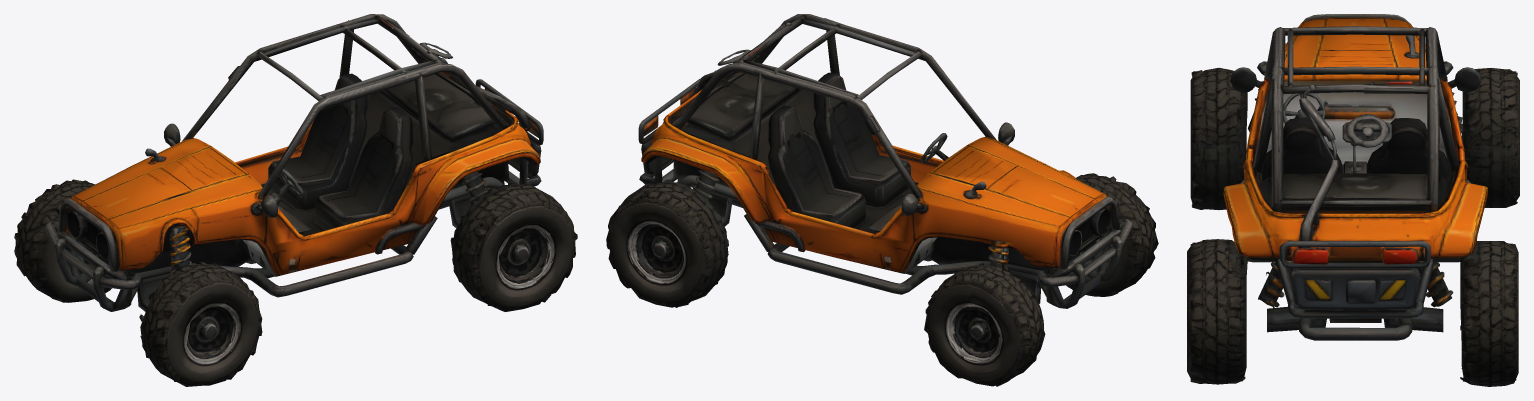
File: kaeferkraft.glb
3 views of the same model, side by side, from view 1: azimuth 30°, elevation 25°; view 2: azimuth 150°, elevation 25°; view 3: azimuth 270°, elevation 25° (orthographic). The views are drawn at different scales.
Visible parts, largest first — view 1: BodyPaint, StockWheel_RR, StockWheel_FR, StockWheel_FL; view 2: BodyPaint, StockWheel_RL, StockWheel_FL, StockWheel_FR; view 3: BodyPaint, StockWheel_RR, StockWheel_RL, StockWheel_FR, StockWheel_FL.
Boxes of the visible parts, box(x1,y1,x2,y2) form: BodyPaint: box(44, 14, 543, 311); StockWheel_RR: box(450, 182, 577, 311); StockWheel_FR: box(139, 262, 262, 386); StockWheel_FL: box(14, 179, 111, 302); BodyPaint: box(638, 14, 1133, 308); StockWheel_RL: box(606, 179, 728, 307); StockWheel_FL: box(924, 263, 1045, 386); StockWheel_FR: box(1066, 173, 1158, 296); BodyPaint: box(1223, 14, 1487, 340); StockWheel_RR: box(1187, 239, 1247, 384); StockWheel_RL: box(1431, 241, 1518, 386); StockWheel_FR: box(1190, 67, 1247, 209); StockWheel_FL: box(1458, 68, 1519, 207).
Size of the model in its own units: 3.35 by 1.72 by 1.91.
16 materials, 16 textured.
